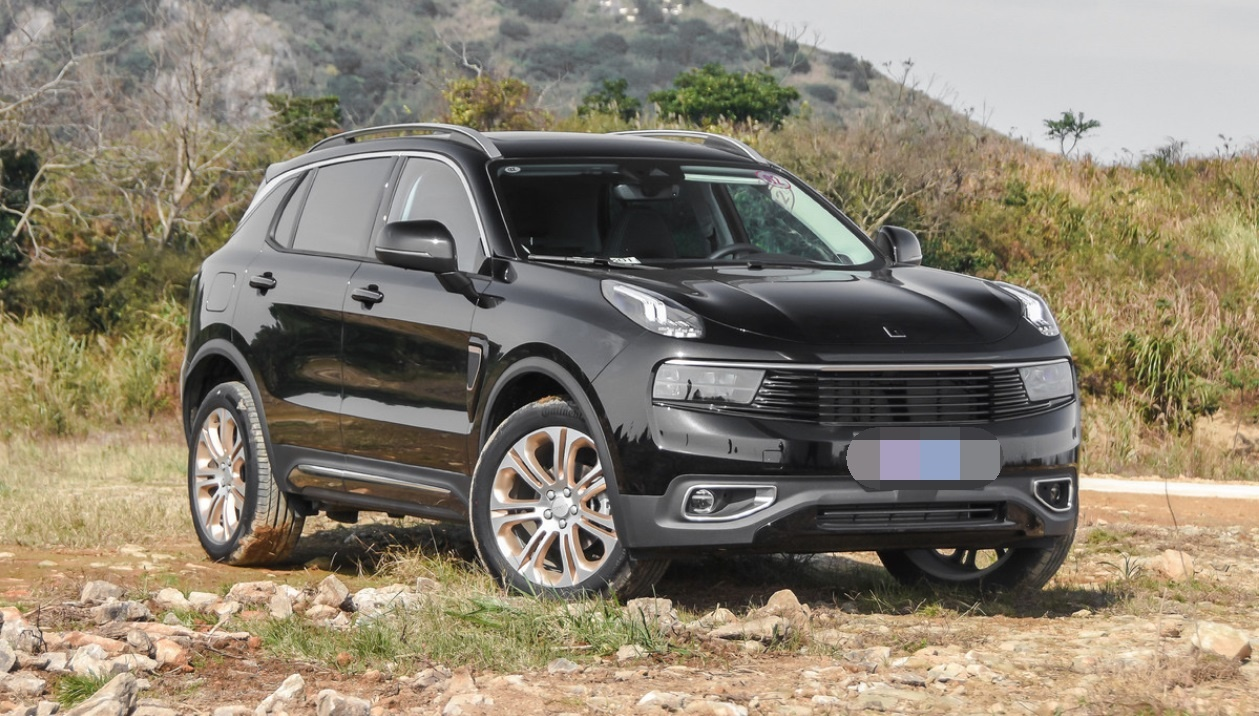SUV: (186, 121, 1100, 614)
